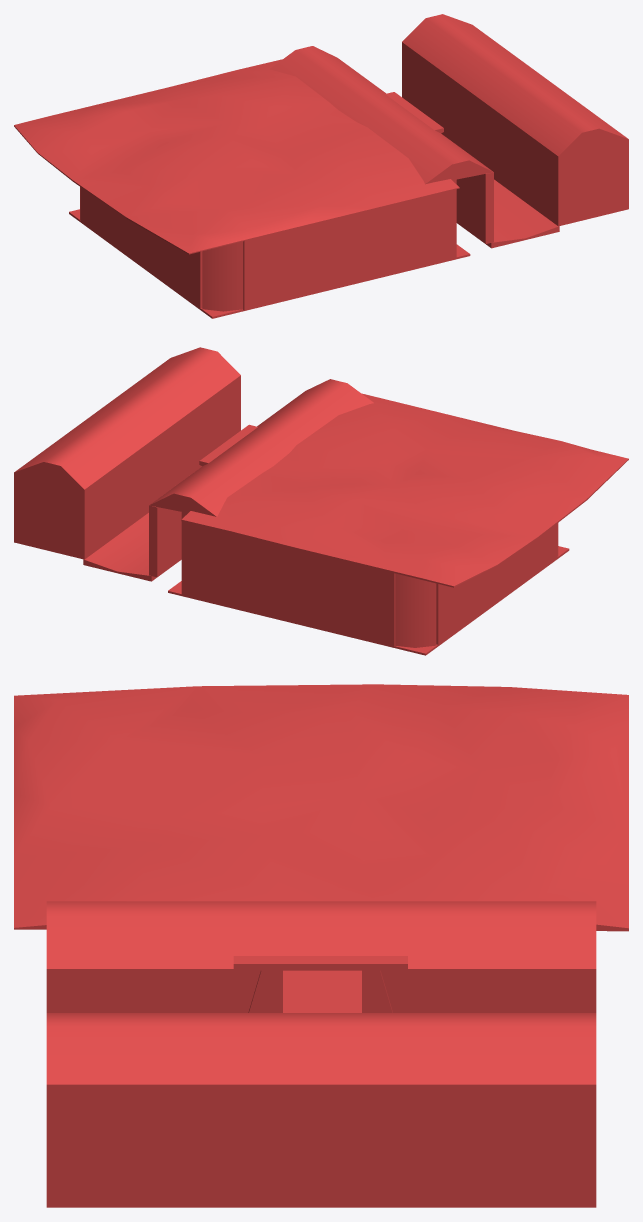
Rendered from Room_A_COL.fbx.
The picture shows the model from 3 angles, top to bottom: view 1: azimuth 30°, elevation 25°; view 2: azimuth 150°, elevation 25°; view 3: azimuth 270°, elevation 25°; orthographic projection. The views are drawn at different scales.
Parts seen in each view (by area): view 1: Room_A_COL; view 2: Room_A_COL; view 3: Room_A_COL.
Part boxes in pixels (bbox=[...]): Room_A_COL: bbox=[14, 14, 628, 318]; Room_A_COL: bbox=[14, 347, 628, 655]; Room_A_COL: bbox=[14, 684, 628, 1207].
Bounding box in the file's own units: 1363 × 301 × 895.
